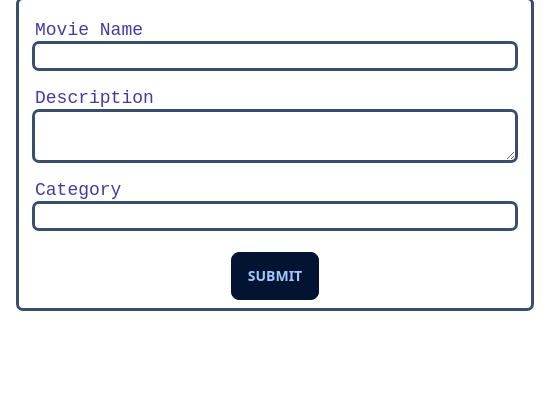
Test: <MovieForm> › Check for Required Values
Click the button with test id "submit" at (276, 276), box [231, 252, 320, 300]
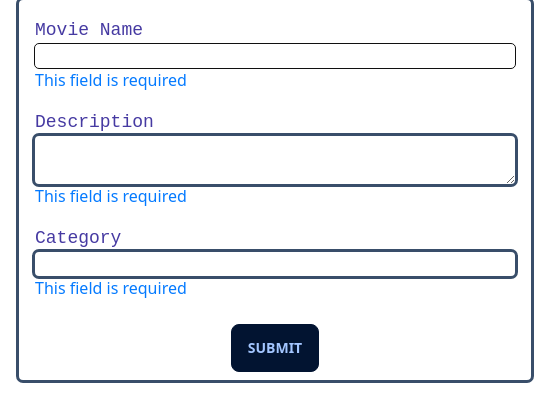
Expected: the text with test id "movieError" reads "This field is required", [35, 69, 187, 91]
Expected: the text with test id "descriptionError" reads "This field is required", [35, 185, 187, 207]
Expected: the text with test id "categoryError" reads "This field is required", [35, 277, 187, 299]
